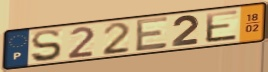2: (66, 24, 97, 60), (102, 21, 132, 57), (171, 14, 202, 48)
E: (135, 15, 170, 54), (204, 8, 240, 44)
S: (30, 28, 64, 63)
